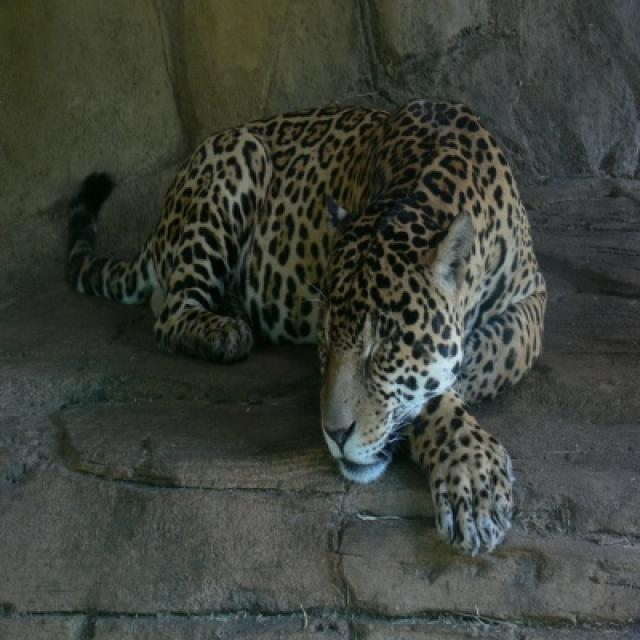Jaguar: (64, 99, 547, 557)
